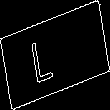L_N: (42, 27, 68, 83)
